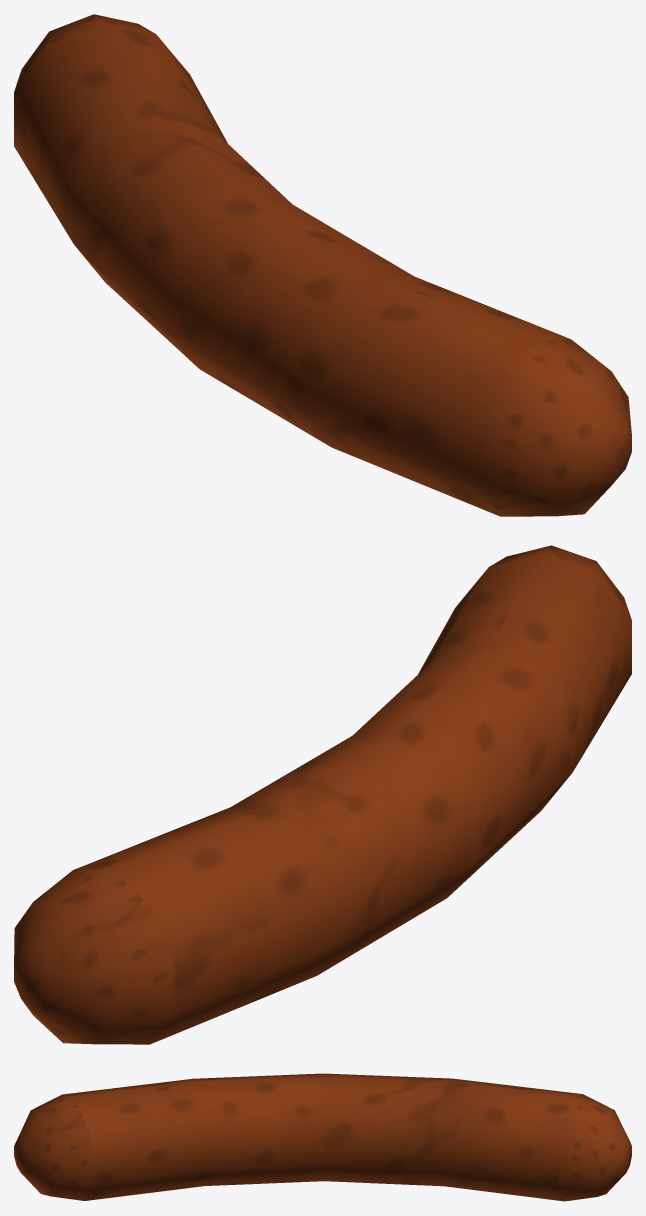
Rendered from DoubleCooked_CervelasCooked.fbx.
The picture shows the model from 3 angles, top to bottom: view 1: azimuth 30°, elevation 25°; view 2: azimuth 150°, elevation 25°; view 3: azimuth 270°, elevation 25°; orthographic projection. The views are drawn at different scales.
Parts seen in each view (by area): view 1: DoubleCooked_CervelasCooked; view 2: DoubleCooked_CervelasCooked; view 3: DoubleCooked_CervelasCooked.
Part boxes in pixels (x1,y1,x2,y2): DoubleCooked_CervelasCooked: (14, 14, 631, 516); DoubleCooked_CervelasCooked: (14, 545, 631, 1044); DoubleCooked_CervelasCooked: (14, 1073, 631, 1201).
Bounding box in the file's own units: 4.1 × 2.98 × 16.6.
1 material, 1 textured.
